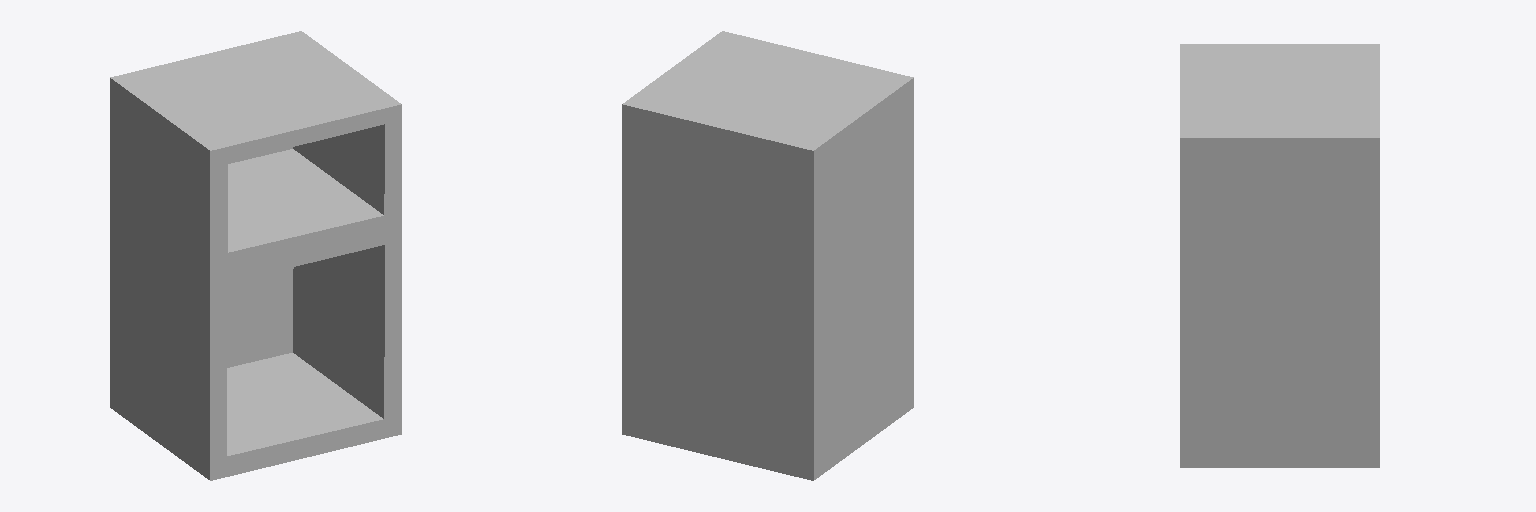
The model's file is fridge.obj.
The picture shows the model from 3 angles: view 1: azimuth 30°, elevation 25°; view 2: azimuth 150°, elevation 25°; view 3: azimuth 270°, elevation 25°; orthographic projection.
Parts seen in each view (by area): view 1: fridge fridge; view 2: fridge fridge; view 3: fridge fridge.
Part boxes in pixels (x1,y1,x2,y2): fridge fridge: (110, 31, 401, 480); fridge fridge: (622, 31, 913, 480); fridge fridge: (1180, 44, 1379, 467).
Size of the model in its own units: 7.92 by 13.05 by 7.19.